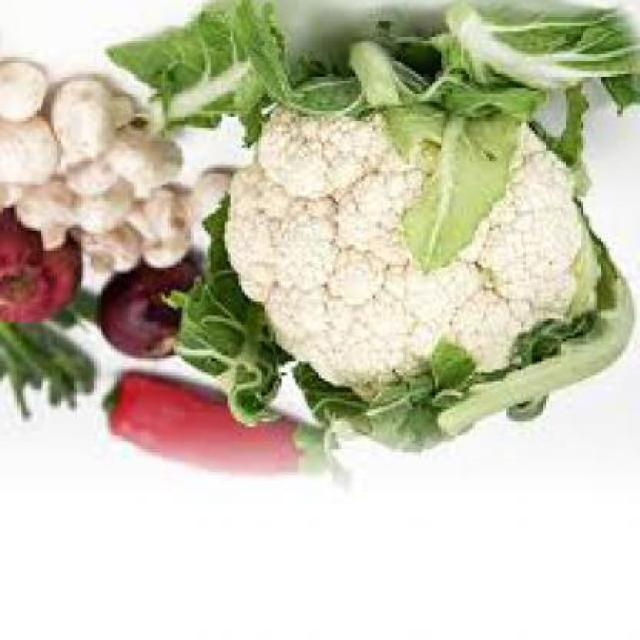BIODEGRADABLE: (117, 3, 638, 494), (114, 378, 341, 480), (3, 296, 105, 416), (2, 210, 86, 330), (103, 268, 205, 366), (54, 76, 140, 166), (3, 117, 65, 191), (122, 134, 182, 198), (23, 189, 80, 253), (2, 68, 55, 130), (79, 179, 132, 236), (88, 224, 146, 270), (138, 193, 191, 242), (62, 156, 115, 202), (139, 230, 193, 273), (190, 180, 233, 222)
